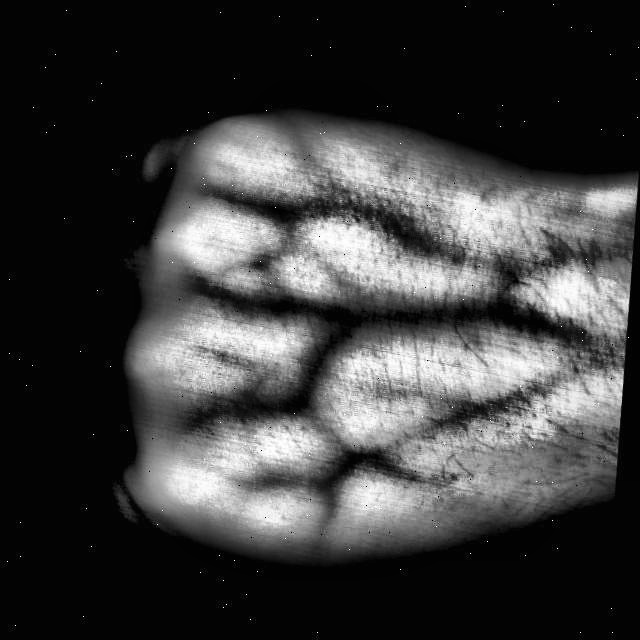Vein: (364, 304, 570, 346)
